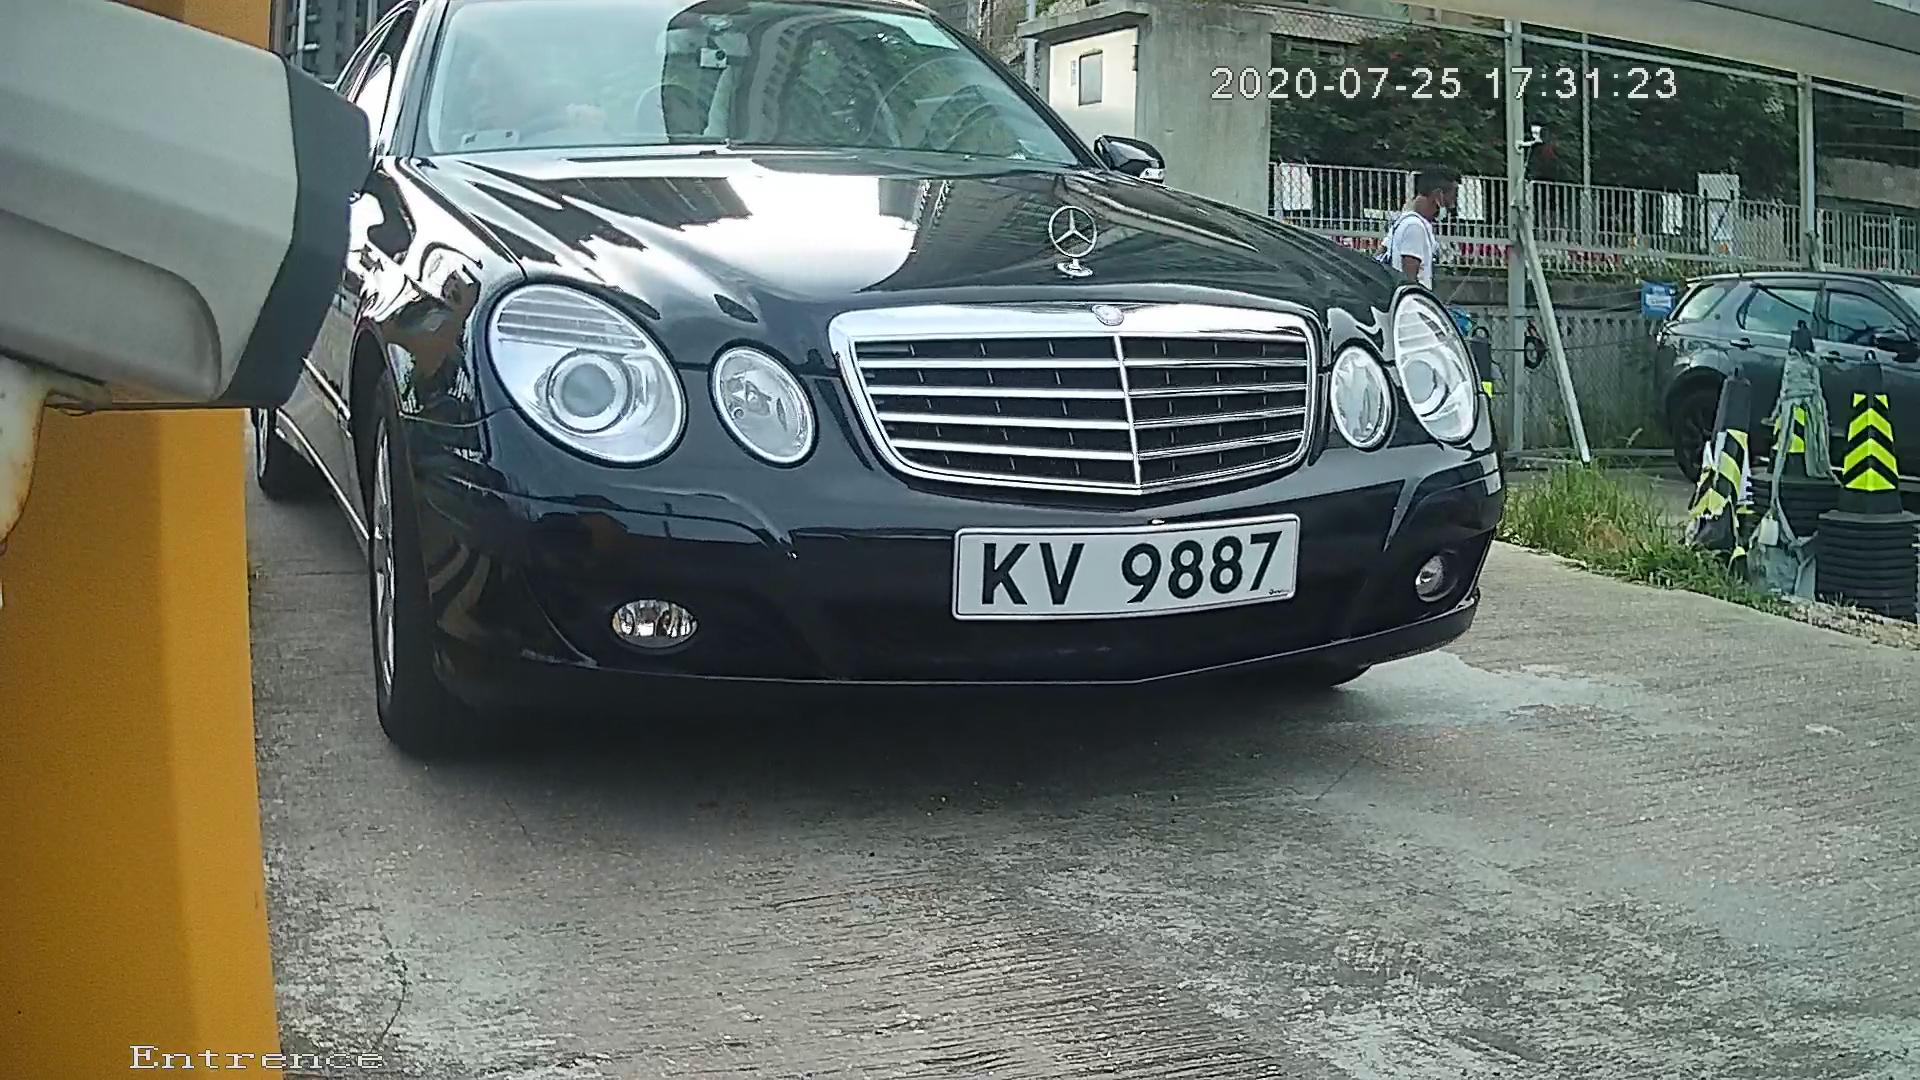Car: (146, 1, 1629, 782)
License Plate: (926, 512, 1312, 632)
